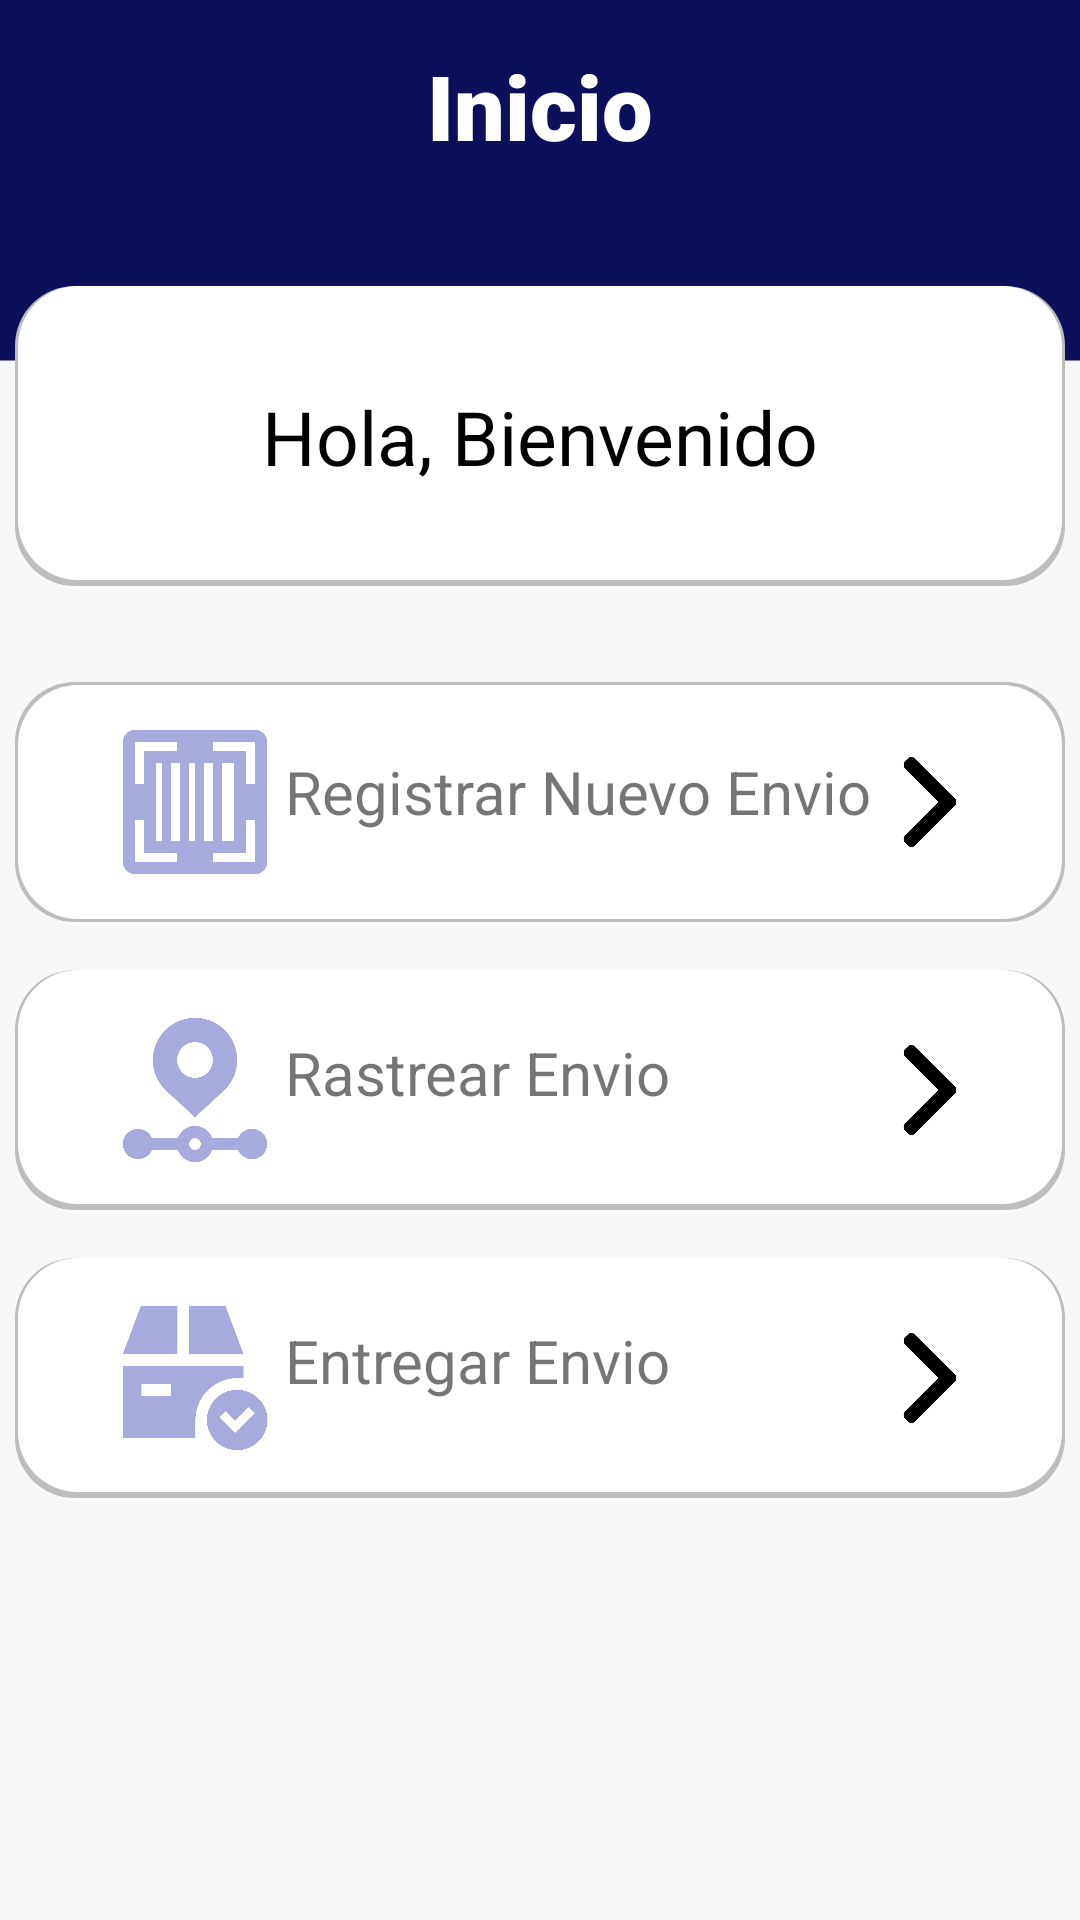

Locate icon controls on the screen. Image size 1080px×1920px, boxes as (x1, y1, x2, y2).
next: (903, 757, 957, 847), (903, 1045, 957, 1135), (903, 1333, 957, 1423)
